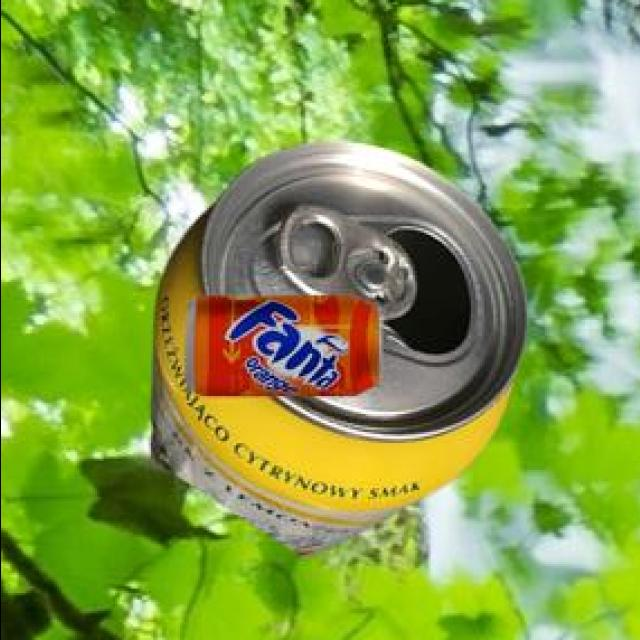logam: (149, 147, 523, 561), (182, 299, 377, 399)
